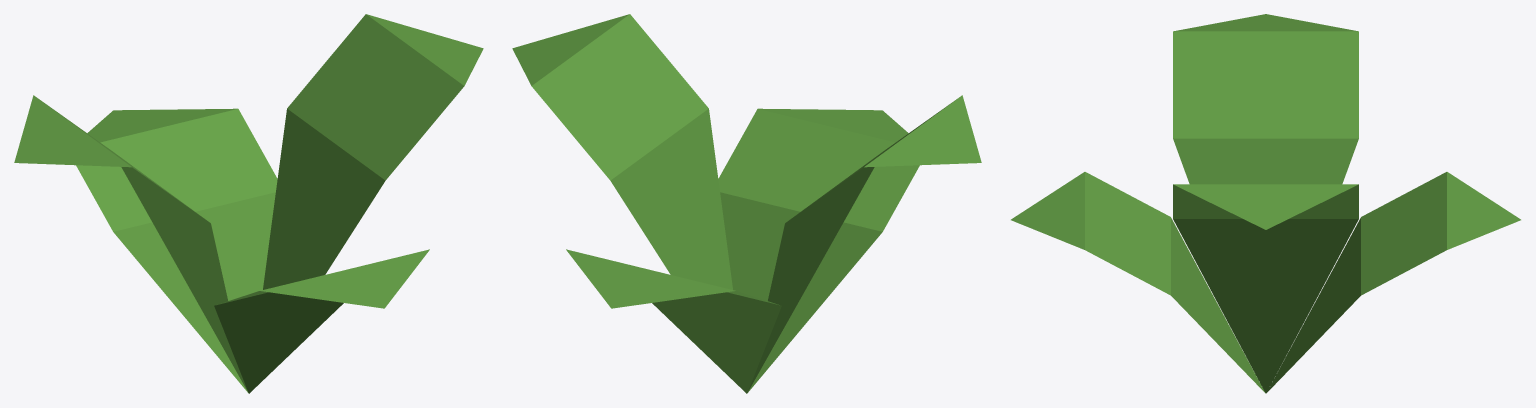
The model's file is bush-1.glb.
3 renders of one model, left to right at view 1: azimuth 30°, elevation 25°; view 2: azimuth 150°, elevation 25°; view 3: azimuth 270°, elevation 25°, orthographic. The views are drawn at different scales.
Parts seen in each view (by area): view 1: plant_bush; view 2: plant_bush; view 3: plant_bush.
Boxes of the visible parts, x1,y1,x2,y2 form: plant_bush: (14,14,483,393); plant_bush: (512,14,981,393); plant_bush: (1011,14,1520,393).
Bounding box in the file's own units: 1.13 × 0.7 × 1.13.
